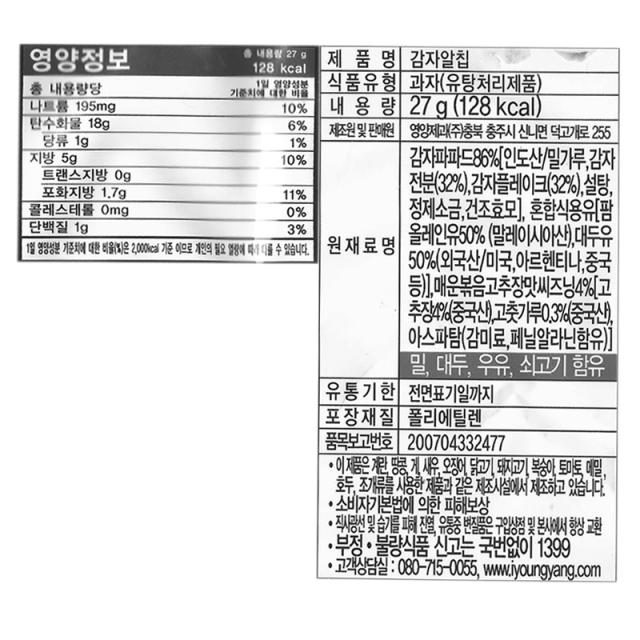Nutrition Label: (11, 35, 333, 280)
